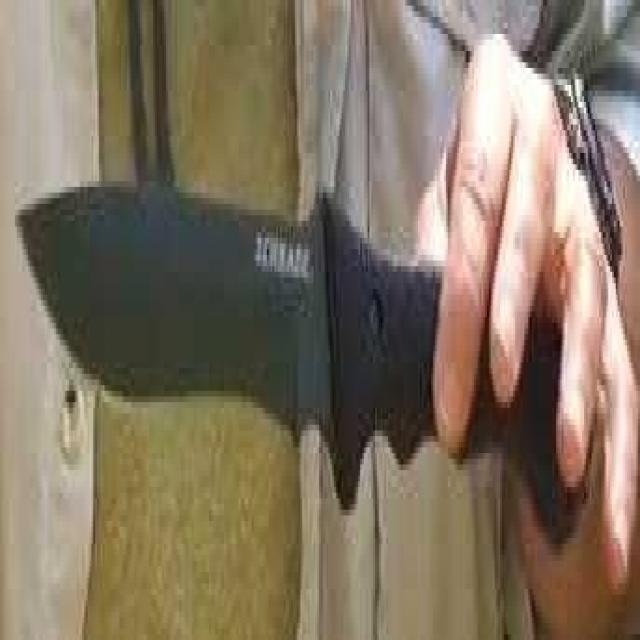weapon: (14, 168, 595, 588)
